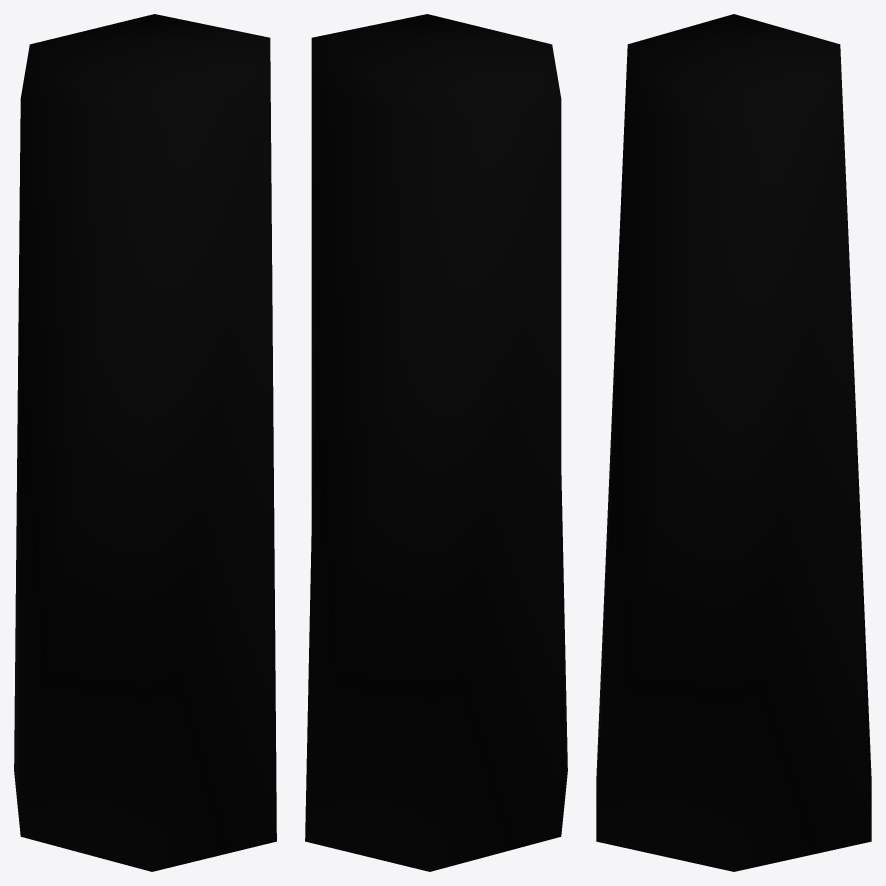
The model's file is obj_genlodestar02coll.glb.
3 views of the same model, side by side, from view 1: azimuth 30°, elevation 25°; view 2: azimuth 150°, elevation 25°; view 3: azimuth 270°, elevation 25° (orthographic).
Visible parts, largest first — view 1: part_0; view 2: part_0; view 3: part_0.
Part boxes in pixels (<box>): part_0: <box>14,14,276,871</box>; part_0: <box>305,14,567,871</box>; part_0: <box>596,14,871,871</box>.
Size of the model in its own units: 2.39 by 6.75 by 2.29.
Materials: 1 (1 with a texture image).
